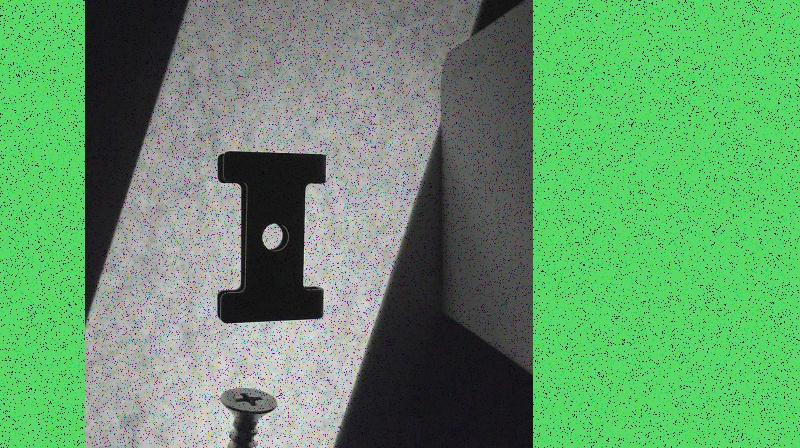O002: (213, 148, 329, 324)
S001: (214, 385, 276, 447)
